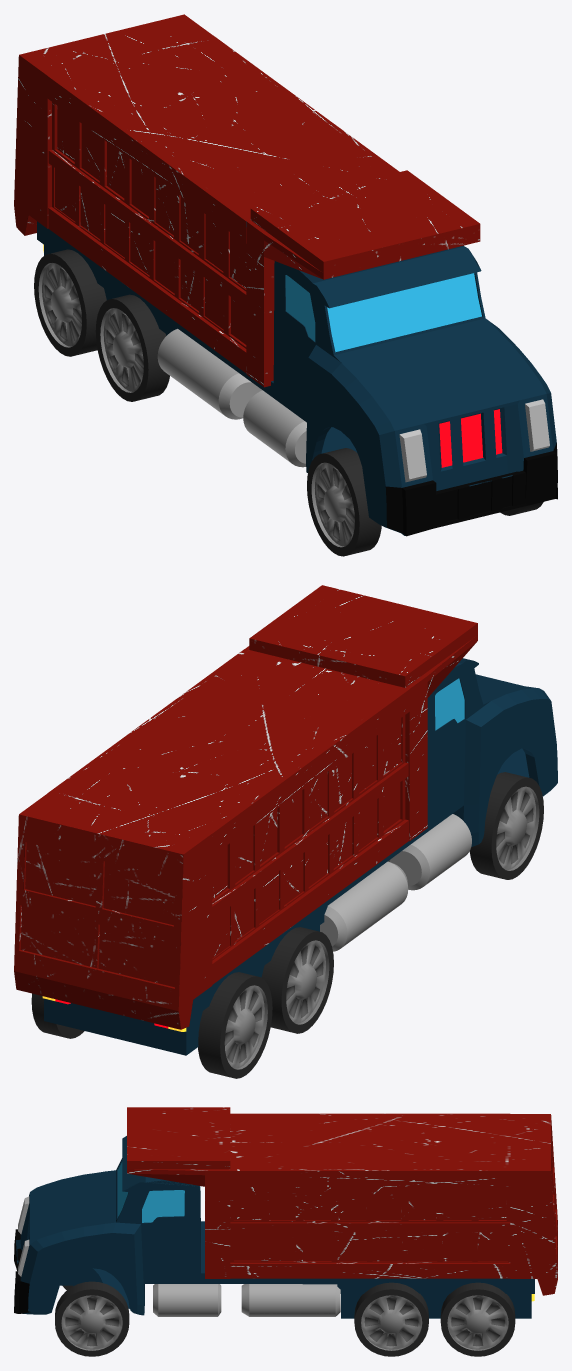
File: SmallDumptruck.fbx
3 views of the same model, one above another, from view 1: azimuth 30°, elevation 25°; view 2: azimuth 150°, elevation 25°; view 3: azimuth 270°, elevation 25° (orthographic). The views are drawn at different scales.
Visible parts, largest first — view 1: Cube.013; view 2: Cube.013; view 3: Cube.013.
Boxes of the visible parts, left/top/right/bottom form: Cube.013: left=14, top=14, right=557, bottom=556; Cube.013: left=14, top=585, right=557, bottom=1078; Cube.013: left=14, top=1107, right=557, bottom=1356.
Bounding box in the file's own units: 376 × 502 × 1302.
Materials: 26 (1 with a texture image).
